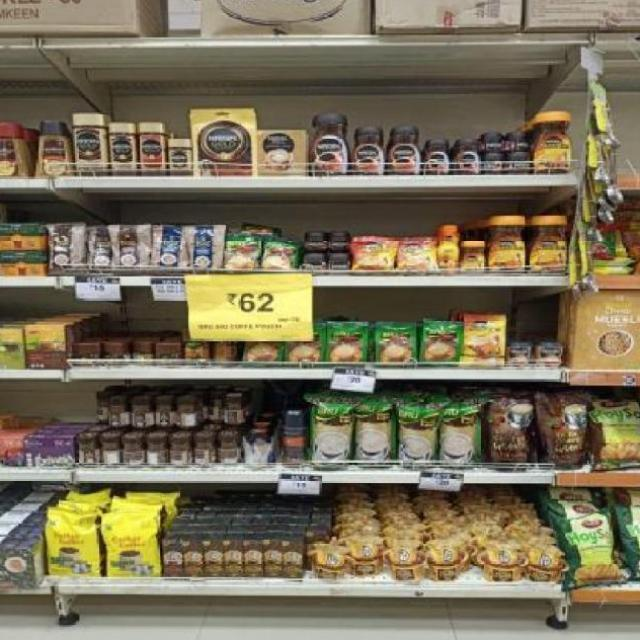Coffee: (309, 113, 351, 174), (71, 113, 108, 177), (535, 112, 572, 174), (463, 316, 506, 368), (488, 216, 527, 272), (530, 218, 569, 272), (352, 127, 385, 176), (388, 126, 421, 173), (108, 123, 137, 176), (353, 236, 391, 272), (395, 237, 433, 272), (438, 225, 460, 271), (167, 138, 193, 174), (450, 139, 477, 172), (461, 240, 488, 273), (425, 139, 451, 172), (507, 131, 532, 151), (327, 253, 350, 274), (509, 151, 533, 171), (483, 154, 506, 174), (480, 133, 503, 152), (326, 232, 349, 251), (304, 252, 327, 271), (302, 234, 325, 250)
